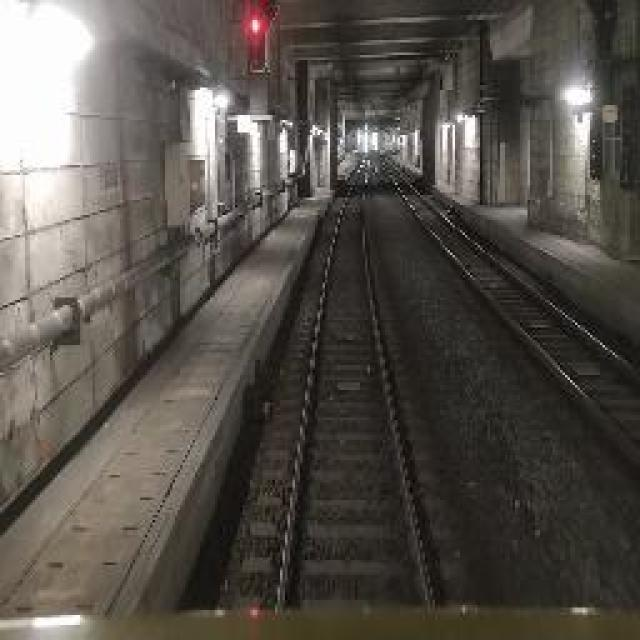rail: (234, 149, 466, 608)
